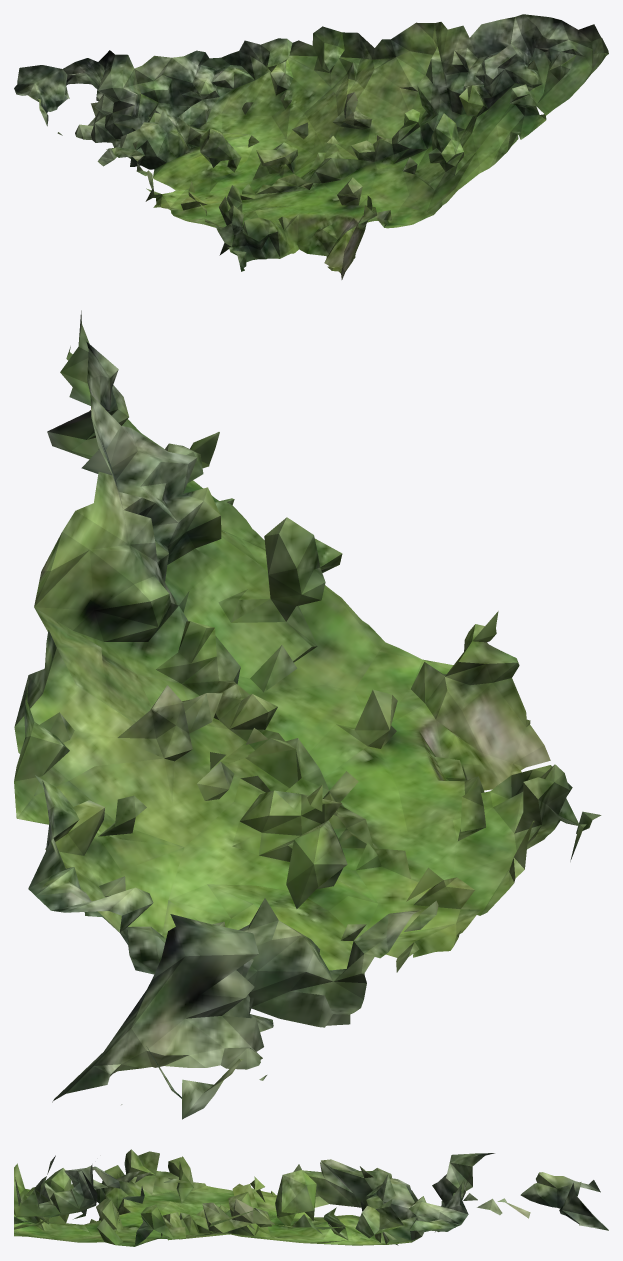
3 renders of one model, top to bottom at view 1: azimuth 30°, elevation 25°; view 2: azimuth 150°, elevation 25°; view 3: azimuth 270°, elevation 25°, orthographic. The views are drawn at different scales.
Bounding box in the file's own units: 150 × 82.07 × 209.
Materials: 2 (2 with a texture image).
